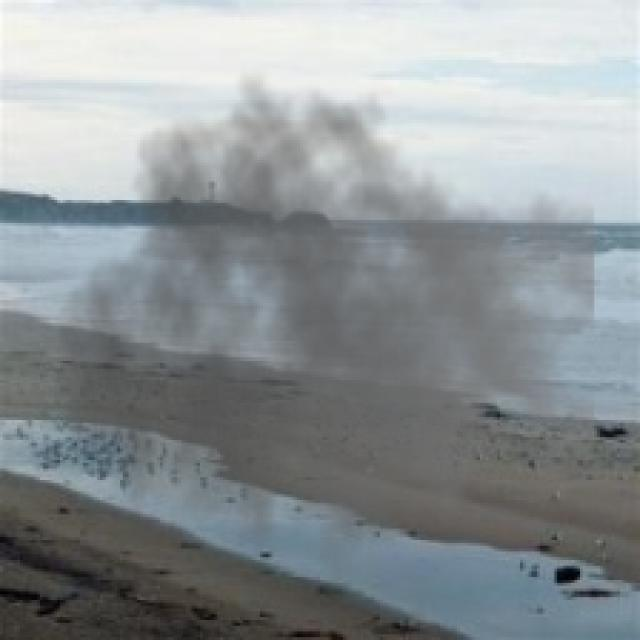smoke: (55, 69, 594, 608)
